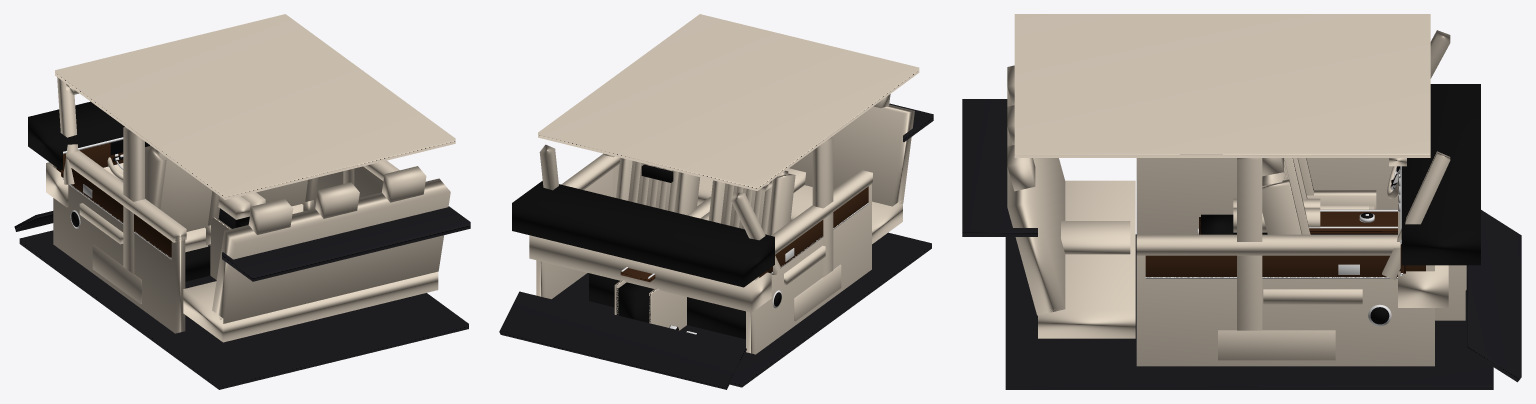
File: rolls_royce_cabin_v18.glb
3 renders of one model, left to right at view 1: azimuth 30°, elevation 25°; view 2: azimuth 150°, elevation 25°; view 3: azimuth 270°, elevation 25°, orthographic. The views are drawn at different scales.
Visible parts, largest first — view 1: Roof_Headliner, Cabin_Floor, Rear_Bench_Backrest, Door_Driver_Card, Rear_Parcel_Shelf, Rear_Bench_Cushion, Dashboard_Upper_Cowl, Seat_Driver_BackrestMain, Door_Driver_UpperSill, BPillar_Left, Door_Driver_WalnutTrim, Door_Driver_Pocket (+15 smaller); view 2: Roof_Headliner, Dashboard_Upper_Cowl, Footwell_ToeBoard, Cabin_Floor, Rear_Bench_Backrest, Door_Driver_Card, Dashboard_Lower_Leather, BPillar_Left, Door_Driver_UpperSill, Rear_Bench_Cushion, Seat_Driver_Plinth, Door_Passenger_Card (+17 smaller); view 3: Roof_Headliner, Cabin_Floor, Door_Passenger_Card, Dashboard_Upper_Cowl, Door_Driver_Card, Rear_Bench_Cushion, Footwell_ToeBoard, Rear_Parcel_Shelf, Rear_Bench_Backrest, Door_Passenger_UpperSill, Door_Passenger_WalnutTrim, BPillar_Right (+13 smaller).
Part boxes in pixels (x1,y1,x2,y2): Roof_Headliner: [55, 14, 455, 199]; Cabin_Floor: [19, 230, 468, 389]; Rear_Bench_Backrest: [212, 178, 450, 323]; Door_Driver_Card: [53, 165, 185, 333]; Rear_Parcel_Shelf: [222, 206, 470, 281]; Rear_Bench_Cushion: [183, 271, 438, 342]; Dashboard_Upper_Cowl: [28, 101, 124, 169]; Seat_Driver_BackrestMain: [154, 148, 212, 231]; Door_Driver_UpperSill: [66, 150, 186, 242]; BPillar_Left: [123, 127, 144, 274]; Door_Driver_WalnutTrim: [56, 168, 171, 258]; Door_Driver_Pocket: [92, 244, 141, 304]; Roof_Headliner: [538, 14, 919, 190]; Dashboard_Upper_Cowl: [512, 181, 774, 287]; Footwell_ToeBoard: [499, 291, 746, 389]; Cabin_Floor: [552, 232, 931, 387]; Rear_Bench_Backrest: [789, 104, 914, 206]; Door_Driver_Card: [746, 184, 871, 354]; Dashboard_Lower_Leather: [529, 235, 771, 312]; BPillar_Left: [812, 137, 833, 277]; Door_Driver_UpperSill: [771, 170, 872, 254]; Rear_Bench_Cushion: [697, 177, 902, 243]; Seat_Driver_Plinth: [687, 297, 745, 339]; Door_Passenger_Card: [536, 169, 613, 299]; Roof_Headliner: [1014, 14, 1430, 157]; Cabin_Floor: [1005, 234, 1493, 389]; Door_Passenger_Card: [1136, 255, 1434, 366]; Dashboard_Upper_Cowl: [1401, 84, 1480, 265]; Door_Driver_Card: [1136, 158, 1397, 234]; Rear_Bench_Cushion: [1038, 180, 1135, 338]; Footwell_ToeBoard: [1465, 210, 1521, 382]; Rear_Parcel_Shelf: [962, 99, 1037, 236]; Rear_Bench_Backrest: [1007, 87, 1065, 315]; Door_Passenger_UpperSill: [1136, 234, 1400, 255]; Door_Passenger_WalnutTrim: [1145, 255, 1425, 277]; BPillar_Right: [1237, 158, 1262, 330].
Size of the model in its own units: 1.95 by 1.42 by 3.09.
